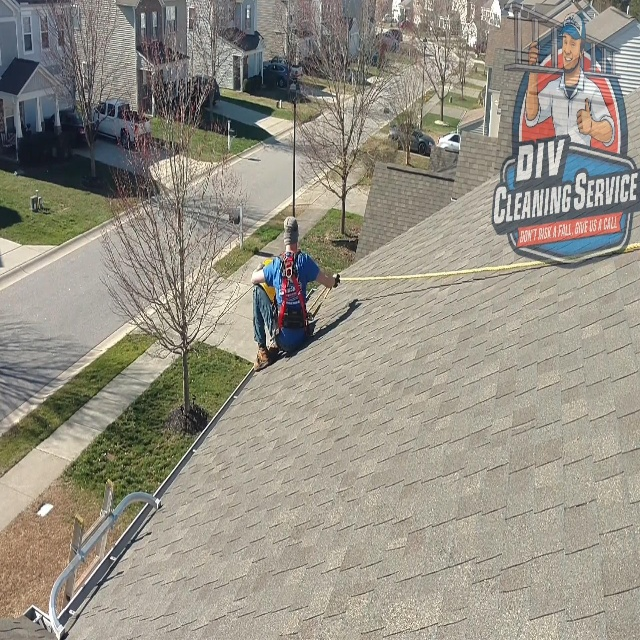Arnes_seguridad: (270, 245, 315, 354)
